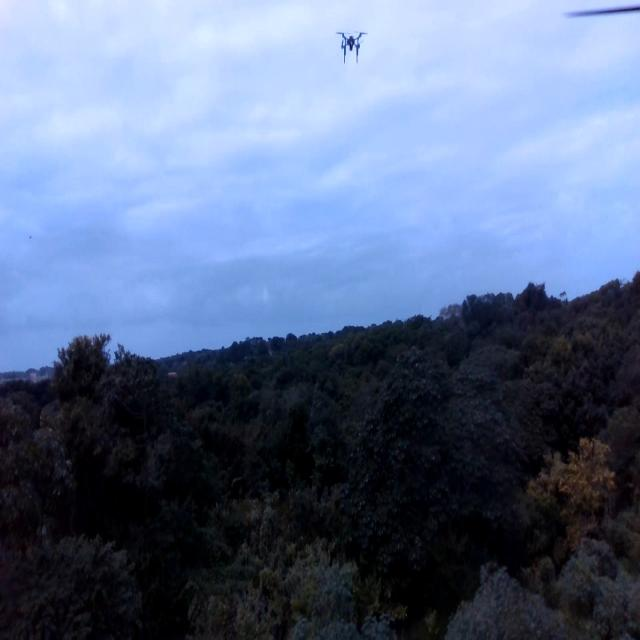-uav-: (330, 16, 371, 80)
